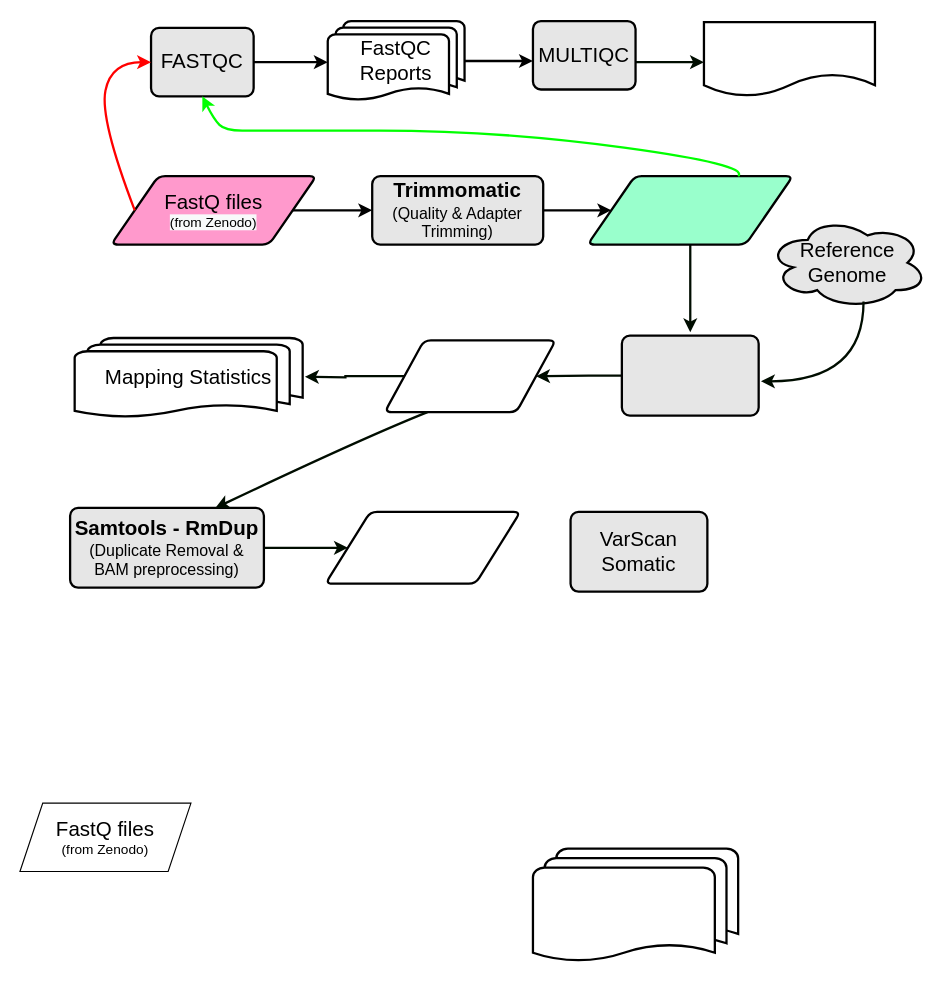
Image size: 948x983. Some labels were removed from this diagram. Here are the shapes that lost their labels. From the top down, the box of each, then its label:
(702, 21, 876, 97): MultiQC Report
(586, 174, 793, 245): Clean FastQ files
(383, 339, 556, 413): RAW BAM files
(620, 334, 759, 416): BWA-MEM
(324, 510, 521, 584): Processed BAM
